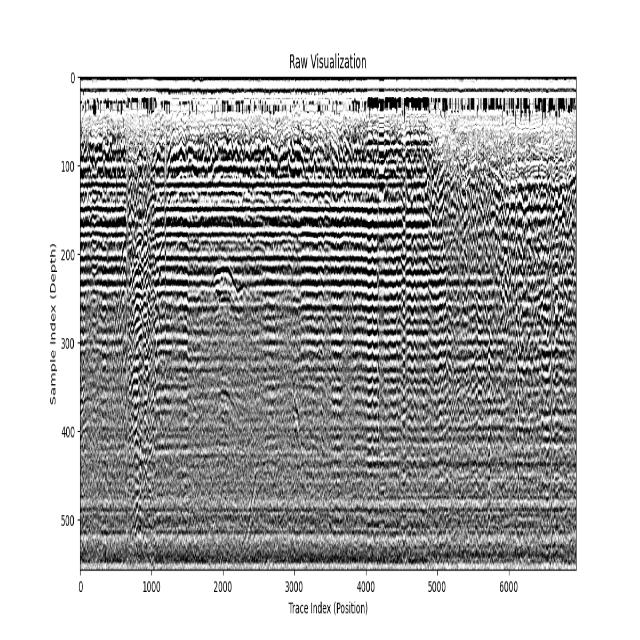anomaly: (125, 139, 163, 541), (418, 136, 448, 389), (297, 215, 325, 372), (203, 256, 250, 308)
